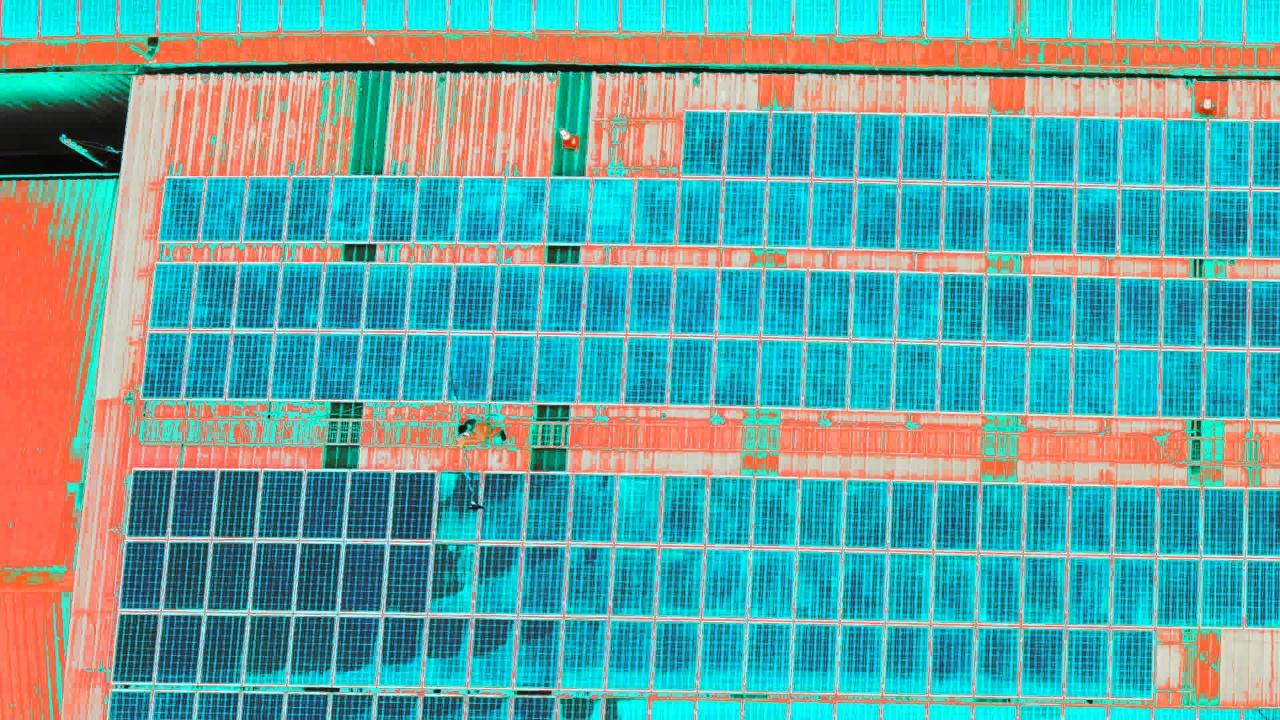clean: (131, 473, 425, 620), (118, 608, 240, 689)
dirty: (437, 472, 1157, 698), (1157, 482, 1280, 624), (238, 611, 421, 686)
semi: (149, 262, 1280, 403), (685, 113, 1280, 236), (166, 176, 679, 243)
